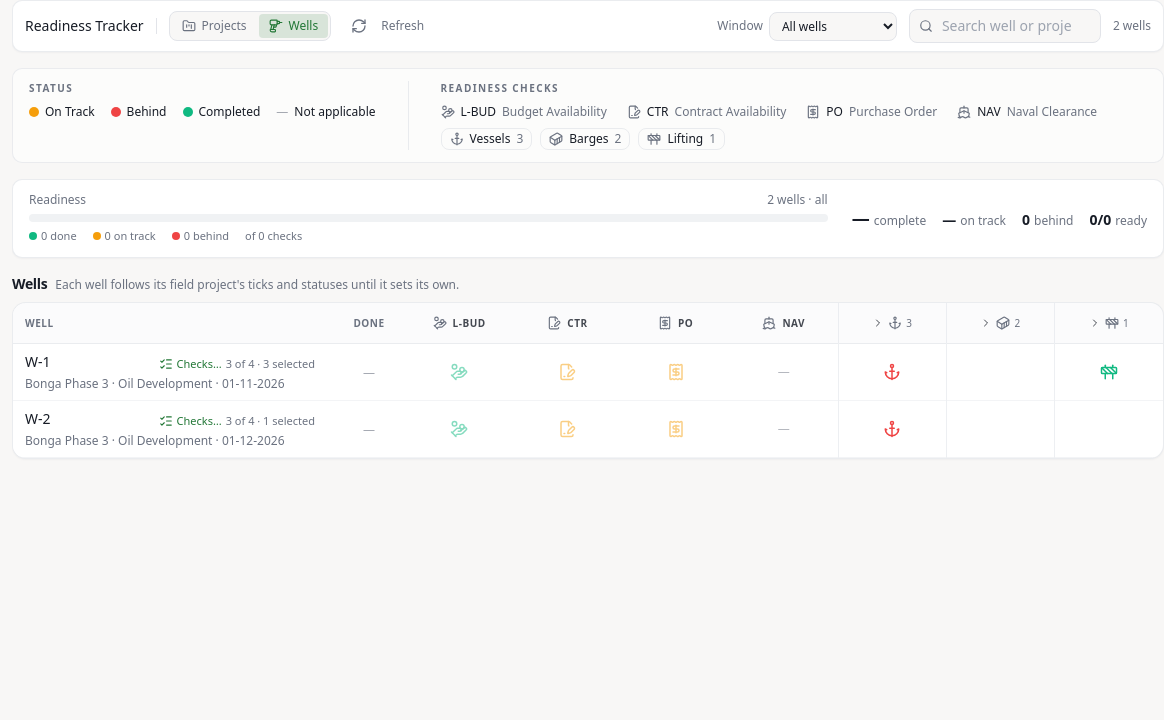
Test case: team grid — categories fold to one column (spec §8.8) › unfolding a category shows its types: not selected is blank, not applicable '—'
Click the button named "Unfold Vessels" at (892, 322), box [868,310,916,334]
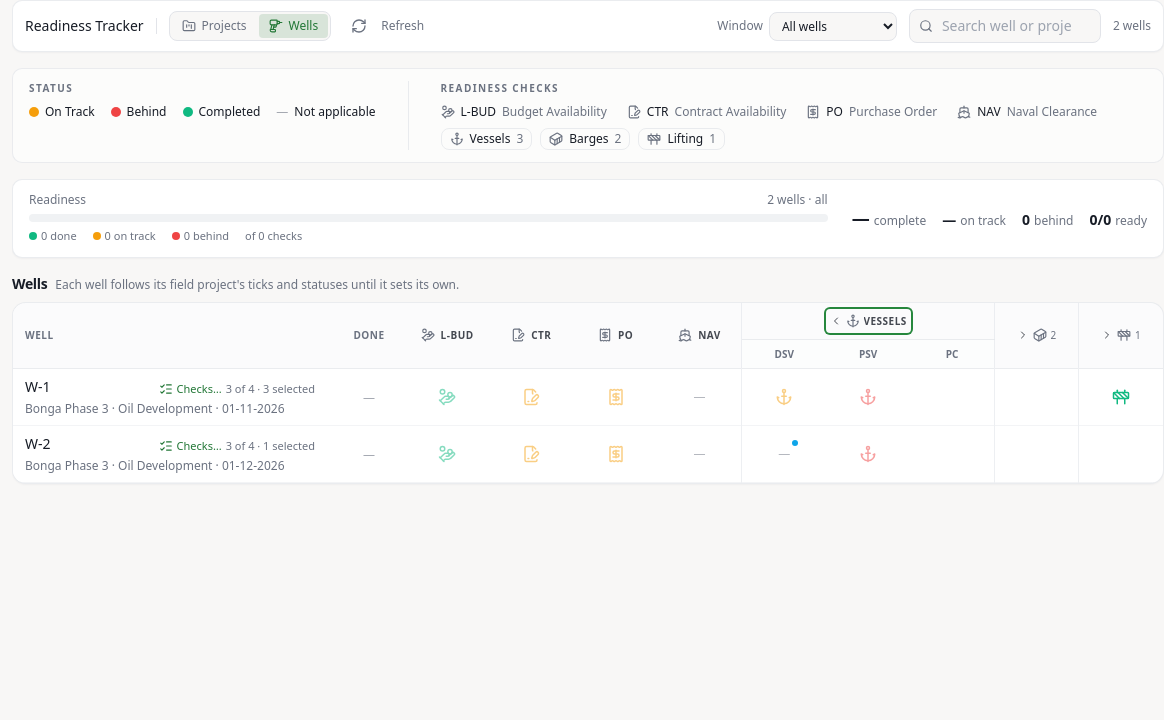
expect the button with aria-label "Fold Vessels" is expanded: met, box [826,308,911,332]
expect the 3rd element titled "Not applicable — set on this well" is shown: met, box [770,440,798,468]
expect the button titled "Platform Support Vessel: Behind (from field project)" in the row of "W-2" is shown: met, box [854,440,882,468]
// An unfolded type is a normal cell: its status menu opens.
Click the button titled "Diving Support Vessel: On Track (from field project)" at (784, 396), box [770,382,798,410]
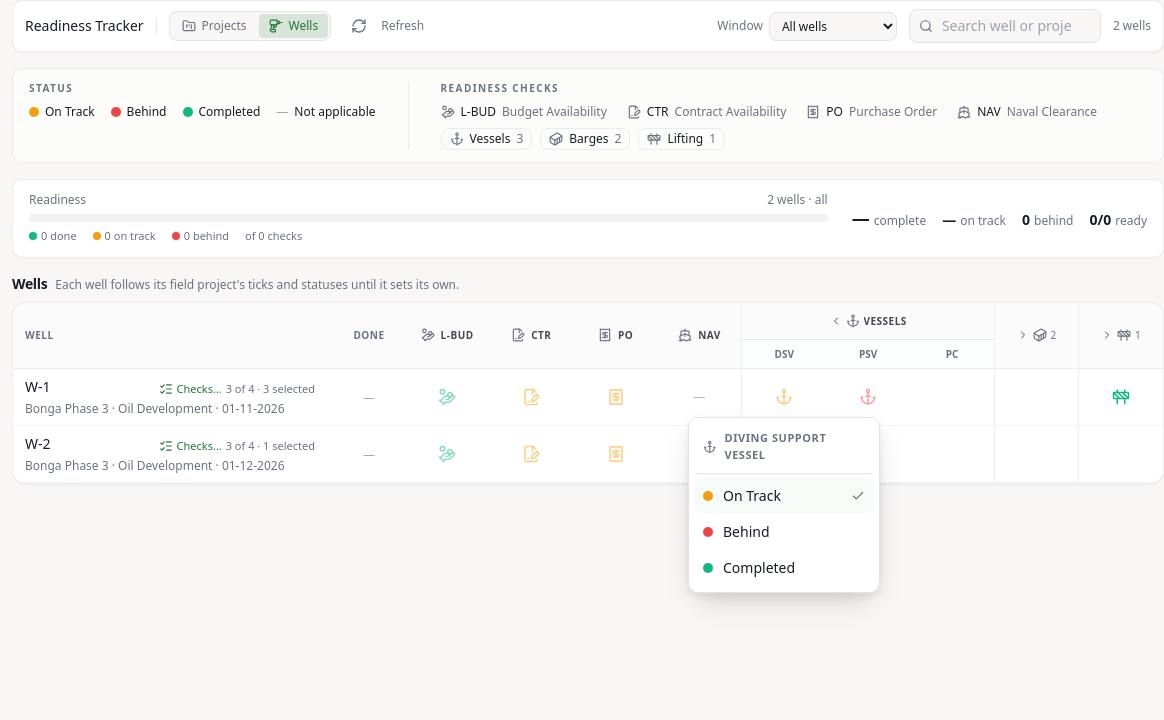
expect the menu is shown: met, box [688,417,880,593]
